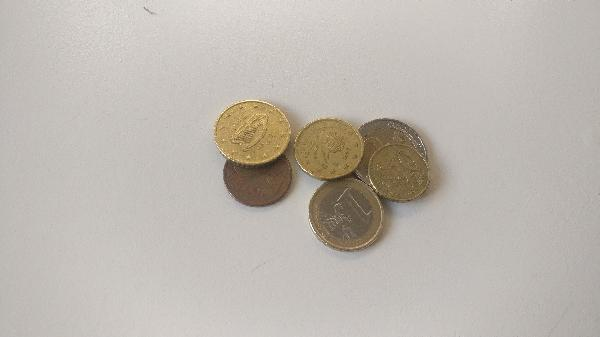Fifty Cent: (209, 96, 290, 166)
Five Cent: (222, 150, 291, 208)
One Euro: (308, 178, 386, 252)
Ten Cent: (367, 143, 430, 204)
Twenty Cent: (294, 119, 364, 180)
Two Euro: (355, 119, 439, 190)
